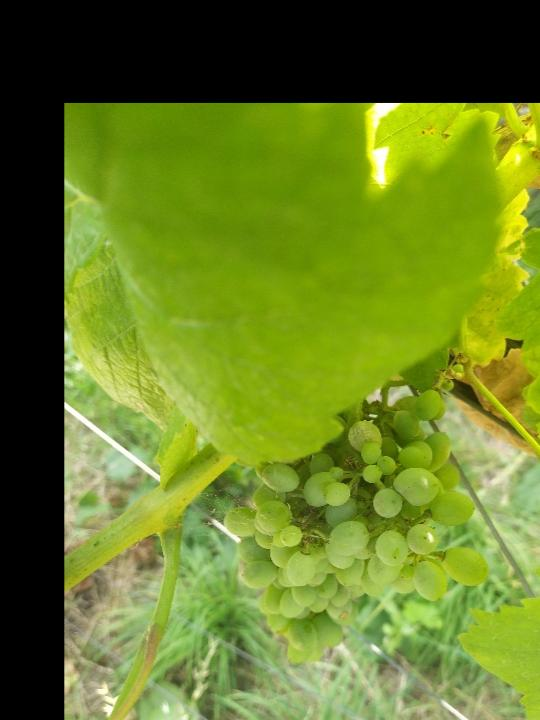grape: (217, 350, 492, 672)
